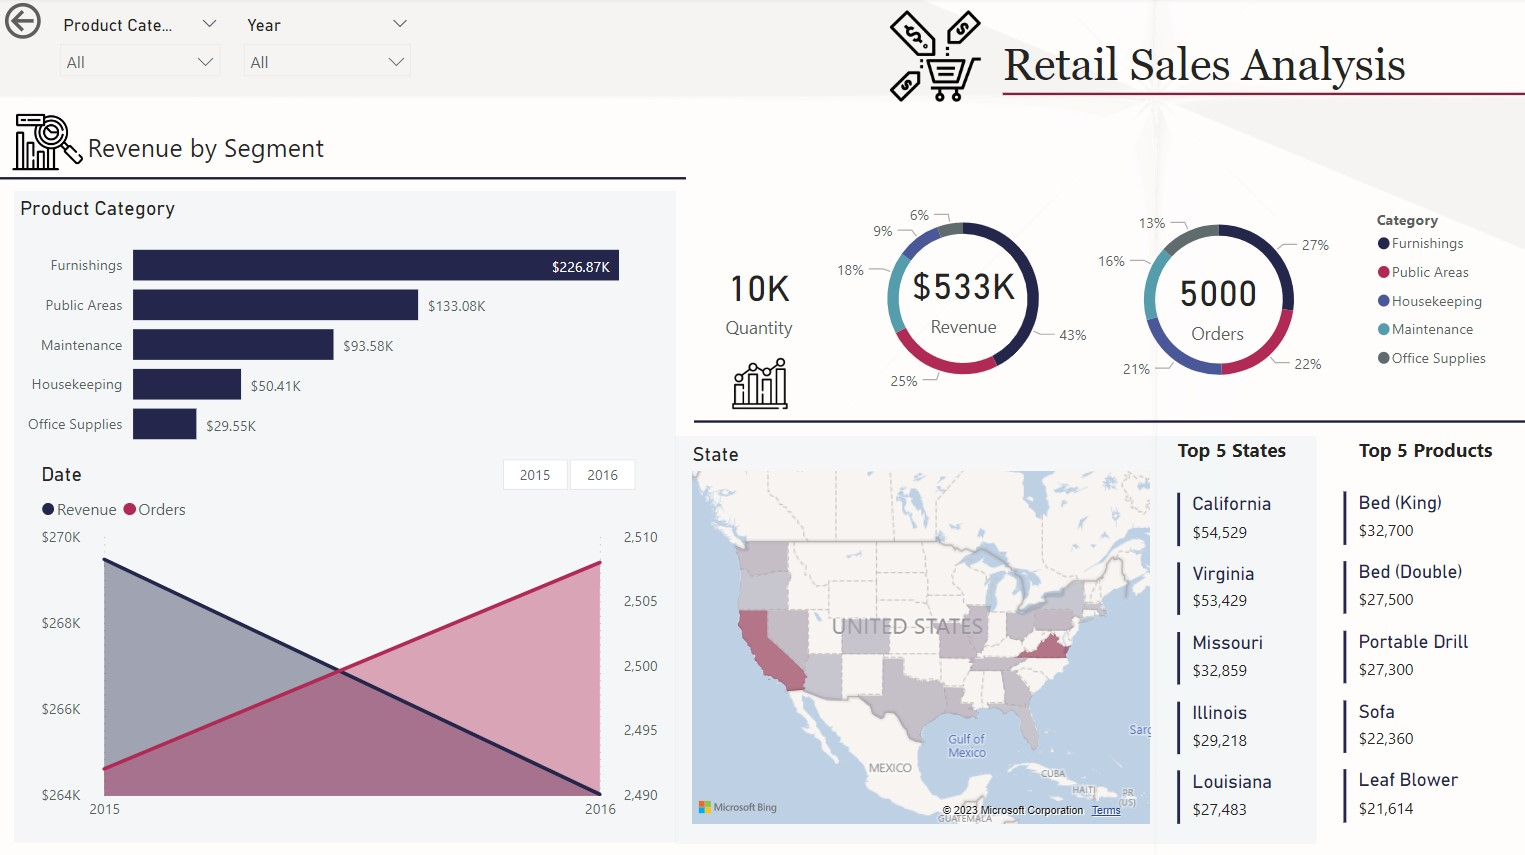

The page's visual inventory and layout, read from the dashboard file:
{"tool":"powerbi","page":{"name":"Page 1","canvas":[1280,720],"ordinal":0},"visuals":[{"type":"shape","box":[12.6,162.2,555,546.7],"z":0},{"type":"shape","box":[567.5,367.5,537.5,342.5],"z":1000},{"type":"areaChart","title":"Date","fields":{"Category":["Retail.Order Date.Variation.Date Hierarchy.Year","Retail.Order Date.Variation.Date Hierarchy.Quarter","Retail.Order Date.Variation.Date Hierarchy.Month"],"Y":["Sum(Retail.Revenue)"],"Y2":["CountNonNull(Retail.Order ID)"]},"box":[30,390,527.5,308.8],"z":2000},{"type":"donutChart","fields":{"Category":["Retail.Product Category"],"Y":["CountNonNull(Retail.Order ID)"]},"box":[912.7,156.2,220,195],"z":2250,"group":"g2"},{"type":"card","fields":{"Values":["CountNonNull(Retail.Order ID)"]},"box":[971.5,190,100,133.8],"z":2500,"group":"g2"},{"type":"donutChart","title":"Order Quantity by Category","fields":{"Category":["Retail.Product Category"],"Y":["Sum(Retail.Quantity)"]},"box":[721.5,140,540,211.2],"z":3000},{"type":"donutChart","title":"Order Quantity by Category","fields":{"Category":["Retail.Product Category"],"Y":["Sum(Retail.Revenue)"]},"box":[695.9,155,225,195],"z":4000,"group":"g1"},{"type":"filledMap","title":"State","fields":{"Category":["Retail.Property State"]},"box":[576.7,373.3,394.2,325.6],"z":4000},{"type":"multiRowCard","fields":{"Values":["Retail.Product Name","Sum(Retail.Revenue)"]},"box":[1122.5,410,130,310],"z":5000},{"type":"group","id":"g1","title":"Group 2","box":[695.9,155,225,195],"z":6000},{"type":"actionButton","box":[0,0,100,40],"z":7000},{"type":"shape","box":[0,143.1,576.2,16.9],"z":8000},{"type":"card","fields":{"Values":["Sum(Retail.Revenue)"]},"box":[760,180.6,97.7,140.7],"z":8000,"group":"g1"},{"type":"barChart","title":"Product Category","fields":{"Category":["Retail.Product Category"],"Y":["Sum(Retail.Revenue)"]},"box":[12.5,166.2,553.8,223.8],"z":9000},{"type":"textbox","box":[68.8,106.2,327.5,45],"z":10000},{"type":"shape","box":[582.5,347.5,697.5,16.2],"z":11000},{"type":"textbox","box":[1135,363.8,145,32.5],"z":12000},{"type":"group","id":"g2","title":"Group 1","box":[912.7,156.2,220,195],"z":13000},{"type":"image","box":[601.2,288.8,72.5,70],"z":14000},{"type":"image","box":[0,87.5,81.2,68.8],"z":15000},{"type":"textbox","box":[836.2,30,360,55],"z":16000},{"type":"shape","box":[841.2,71.2,438.8,20],"z":17000},{"type":"card","fields":{"Values":["Sum(Retail.Quantity)"]},"box":[582.5,206.2,108.8,91.2],"z":18000},{"type":"slicer","fields":{"Values":["Retail.Order Date.Variation.Date Hierarchy.Year"]},"box":[396.2,380,161.2,40],"z":19000},{"type":"multiRowCard","fields":{"Values":["Retail.Property State","Sum(Retail.Revenue)"]},"box":[982.6,410.5,130.2,309.3],"z":20000},{"type":"textbox","box":[982.6,364,119.8,32.6],"z":21000},{"type":"image","box":[729.1,0,111.6,105.8],"z":22000}]}

Visuals, with their boxes in screenshot pixels (x1, y1, x2, y2), scaled from the page's 1280x720 canvas onto the 1525x855 screenshot:
shape: <bbox>15, 193, 676, 842</bbox>
shape: <bbox>676, 436, 1317, 843</bbox>
"Date" areaChart: <bbox>36, 463, 664, 830</bbox>
donutChart - Retail.Product Category x CountNonNull(Retail.Order ID): <bbox>1087, 185, 1350, 417</bbox>
card - CountNonNull(Retail.Order ID): <bbox>1157, 226, 1277, 385</bbox>
"Order Quantity by Category" donutChart: <bbox>860, 166, 1503, 417</bbox>
"Order Quantity by Category" donutChart: <bbox>829, 184, 1097, 416</bbox>
"State" filledMap: <bbox>687, 443, 1157, 830</bbox>
multiRowCard - Retail.Product Name x Sum(Retail.Revenue): <bbox>1337, 487, 1492, 854</bbox>
"Group 2" group: <bbox>829, 184, 1097, 416</bbox>
actionButton: <bbox>0, 0, 119, 48</bbox>
shape: <bbox>0, 170, 686, 190</bbox>
card - Sum(Retail.Revenue): <bbox>905, 214, 1022, 382</bbox>
"Product Category" barChart: <bbox>15, 197, 675, 463</bbox>
textbox: <bbox>82, 126, 472, 180</bbox>
shape: <bbox>694, 413, 1524, 432</bbox>
textbox: <bbox>1352, 432, 1524, 471</bbox>
"Group 1" group: <bbox>1087, 185, 1350, 417</bbox>
image: <bbox>716, 343, 803, 426</bbox>
image: <bbox>0, 104, 97, 186</bbox>
textbox: <bbox>996, 36, 1425, 101</bbox>
shape: <bbox>1002, 85, 1524, 108</bbox>
card - Sum(Retail.Quantity): <bbox>694, 245, 824, 353</bbox>
slicer - Retail.Order Date.Variation.Date Hierarchy.Year: <bbox>472, 451, 664, 499</bbox>
multiRowCard - Retail.Property State x Sum(Retail.Revenue): <bbox>1171, 487, 1326, 854</bbox>
textbox: <bbox>1171, 432, 1313, 471</bbox>
image: <bbox>869, 0, 1002, 126</bbox>
